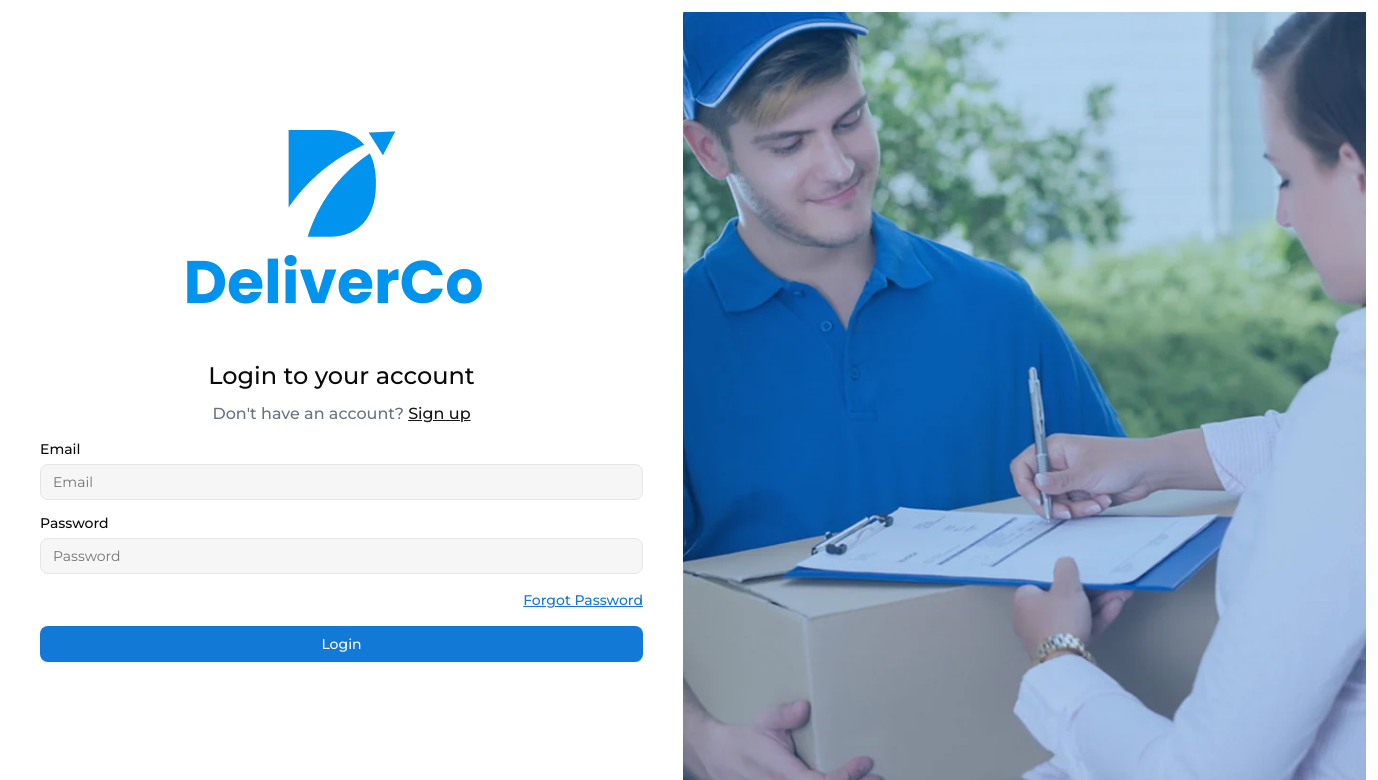
Test case: LoginForm › shows validation errors on empty submit
Click the button "Login".
click(342, 644)  # box [40, 626, 643, 662]
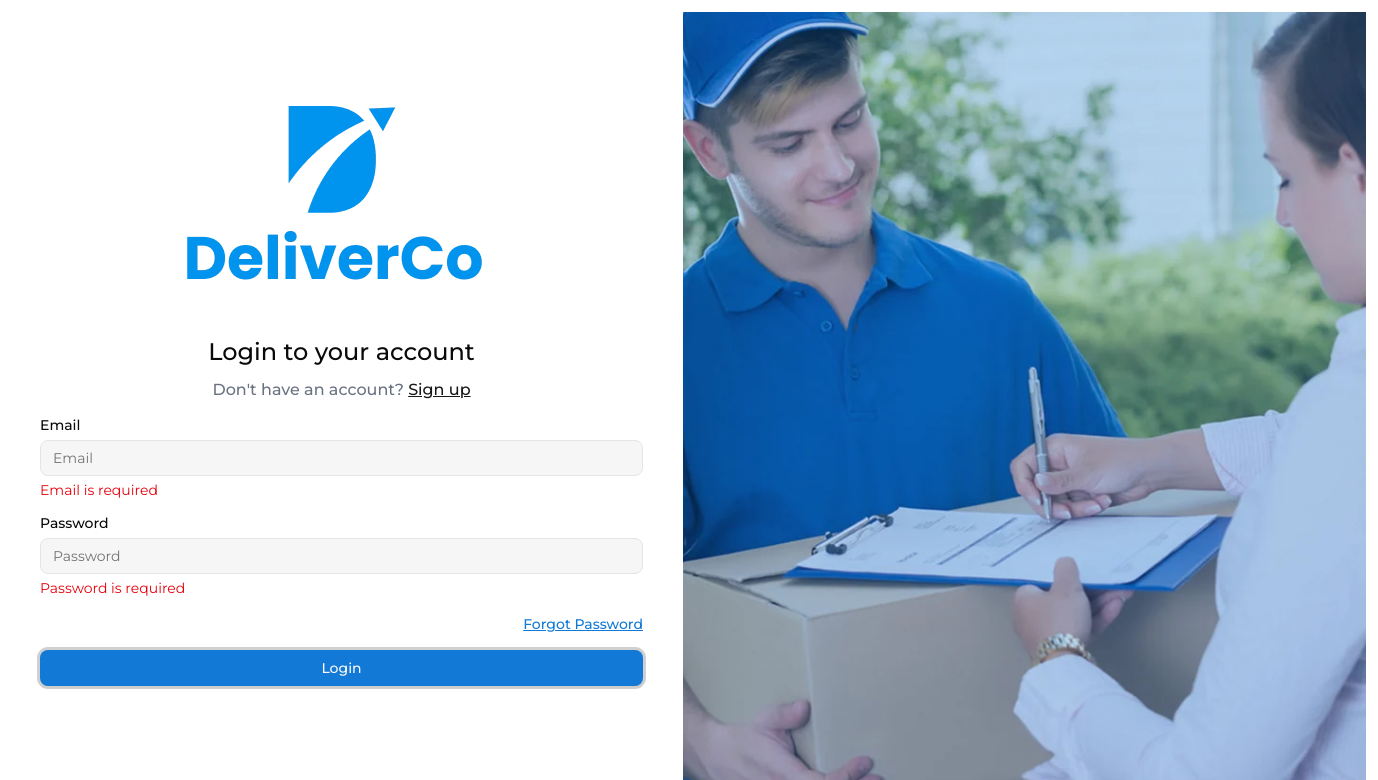
Result: the text "Email is required" is shown at [40, 481, 158, 499]
Result: the text "Password is required" is shown at [40, 579, 185, 597]
